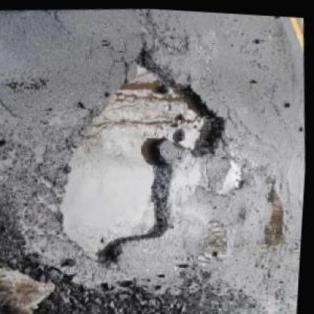Hueco: (47, 40, 244, 272), (260, 180, 294, 243), (214, 155, 251, 194)
